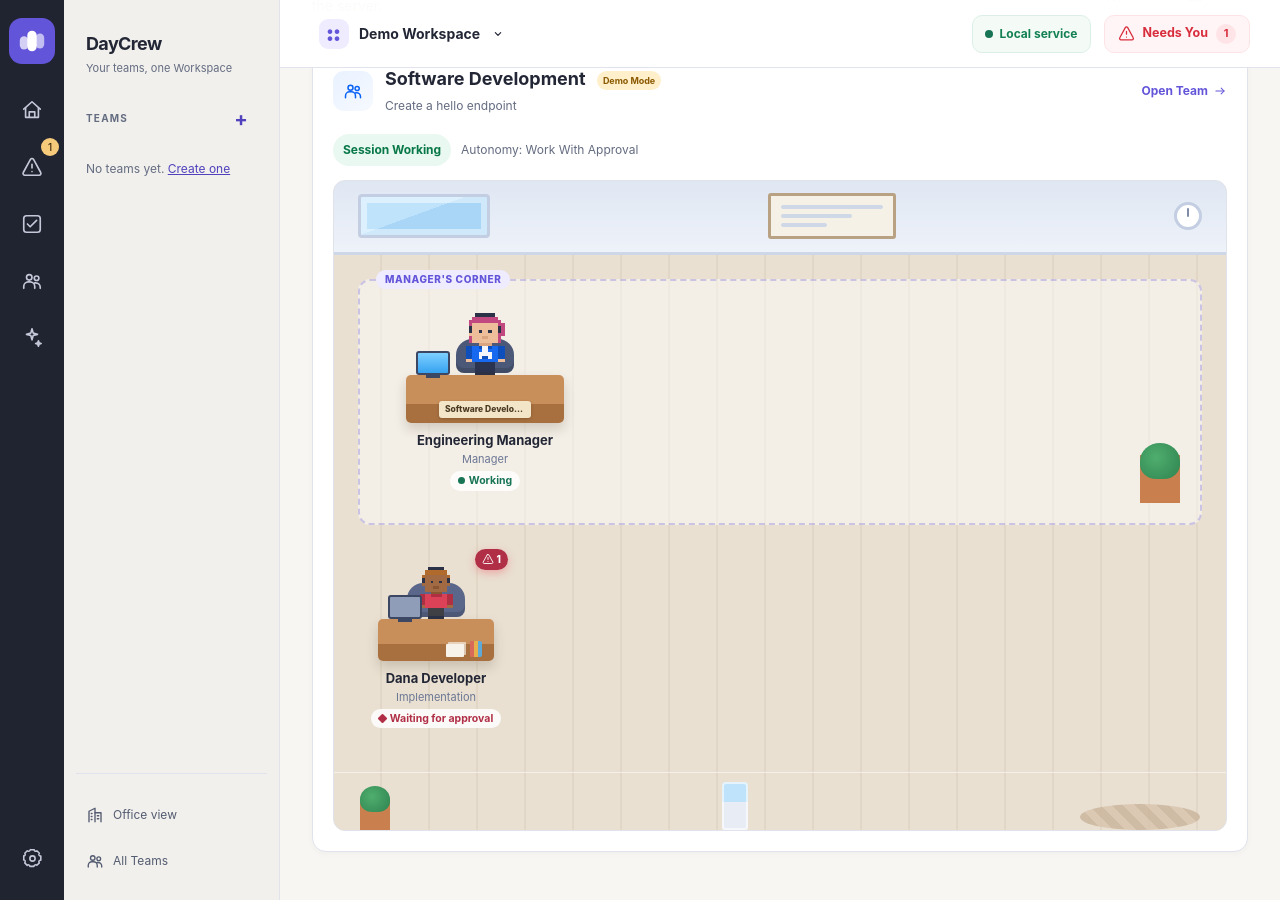
Test: Office › opens the same detail panel from a desk on the drawn floor
(page scrolled)
Click the button with aria-label "Dana Developer, Implementation, Waiting for approval" at (436, 644), box [358,549,514,740]
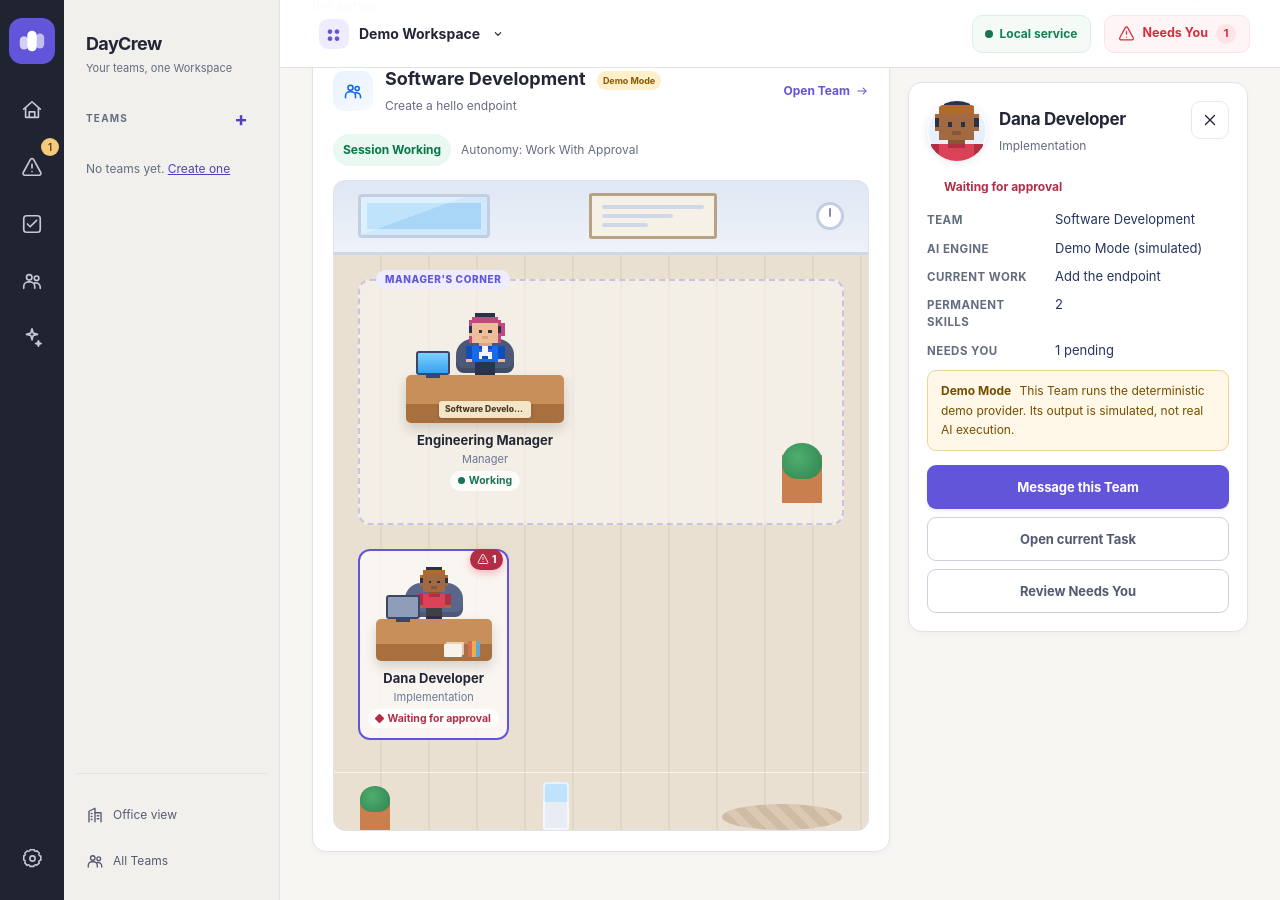
Expected: the element named "Dana Developer detail" shows "Add the endpoint", [1055,268,1161,284]
